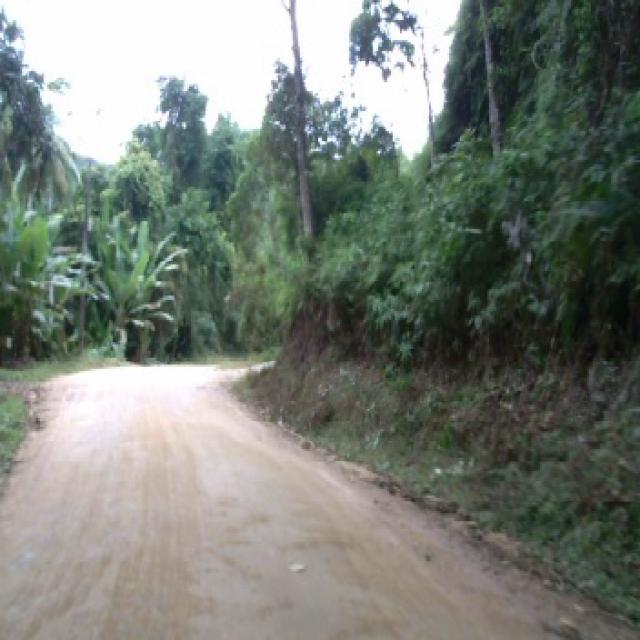Poth-hole: (322, 451, 636, 636), (20, 382, 51, 427)
